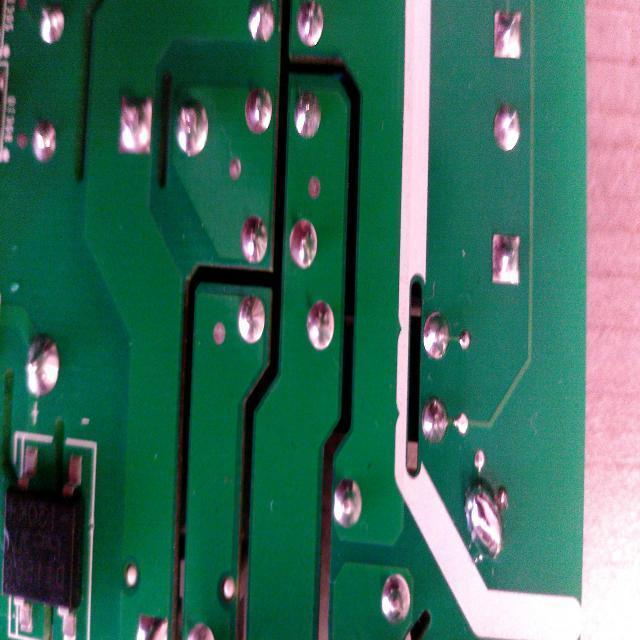Soldering shorted: (464, 463, 508, 560)
